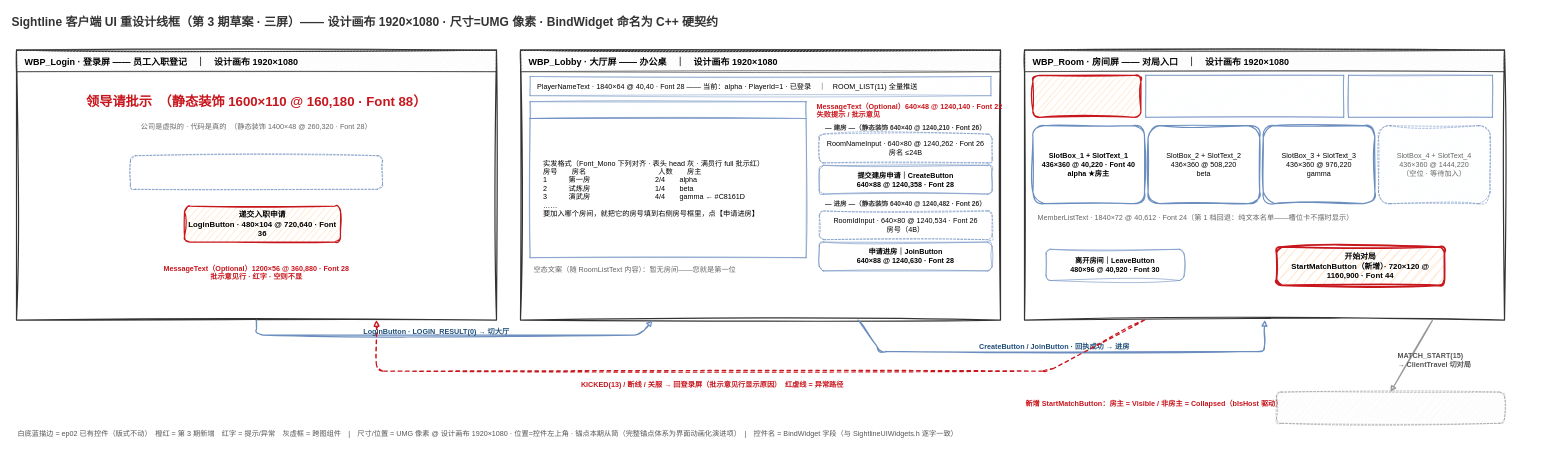
The diagram is 1544 pixels wide and 460 high, and some of its shapes have lost their labels. Here are the shapes that lost their labels. From the top down, the box of each, then its label:
(530, 101, 806, 118): RoomListText（升级 URichTextBlock）· 1160×680 @ 40,140 · 详见 ui_roomlist_spec
(1032, 74, 1141, 118): 01 RoomIdBadgeText · 200×120 @ 60,40 · Font 64
(1145, 75, 1344, 117): RoomTitleText · 960×120 @ 300,40 · Font 36 第一房（房名）· 房主：alpha
(1348, 75, 1492, 117): StatusText · 540×120 @ 1320,40 · Font 26 等待中…
(130, 155, 382, 189): NameInput（UEditableTextBox）· 720×88 @ 600,480 · Font 32 姓名 · 非空 ≤16B UTF-8
(1276, 392, 1504, 423): 对局关卡 L_Arena（跨图 · 结构见客户端架构图对局层）
